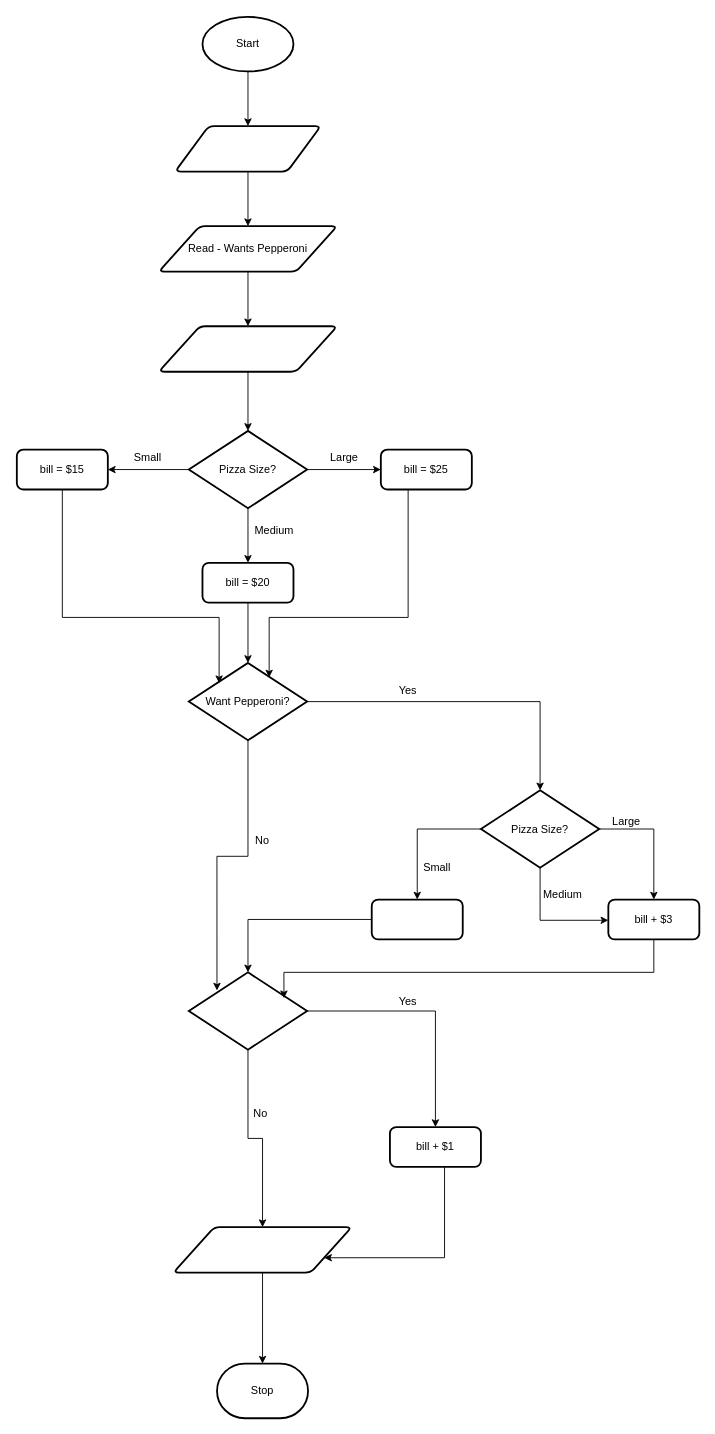
This 715x1434 diagram has some shape labels left out. Here are the shapes that lost their labels. From the top down, the centre of each, then its label:
At point 247,148: "Read - Pizza Size".
At point 247,348: "Read - Extra_Pizza".
At point 416,919: "bill + $2".
At point 247,1010: "Extra Cheese?".
At point 262,1249: "Print Total Bill".
